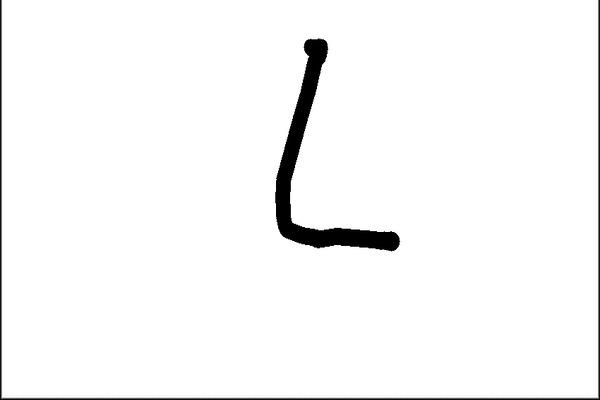L: (266, 31, 408, 264)
